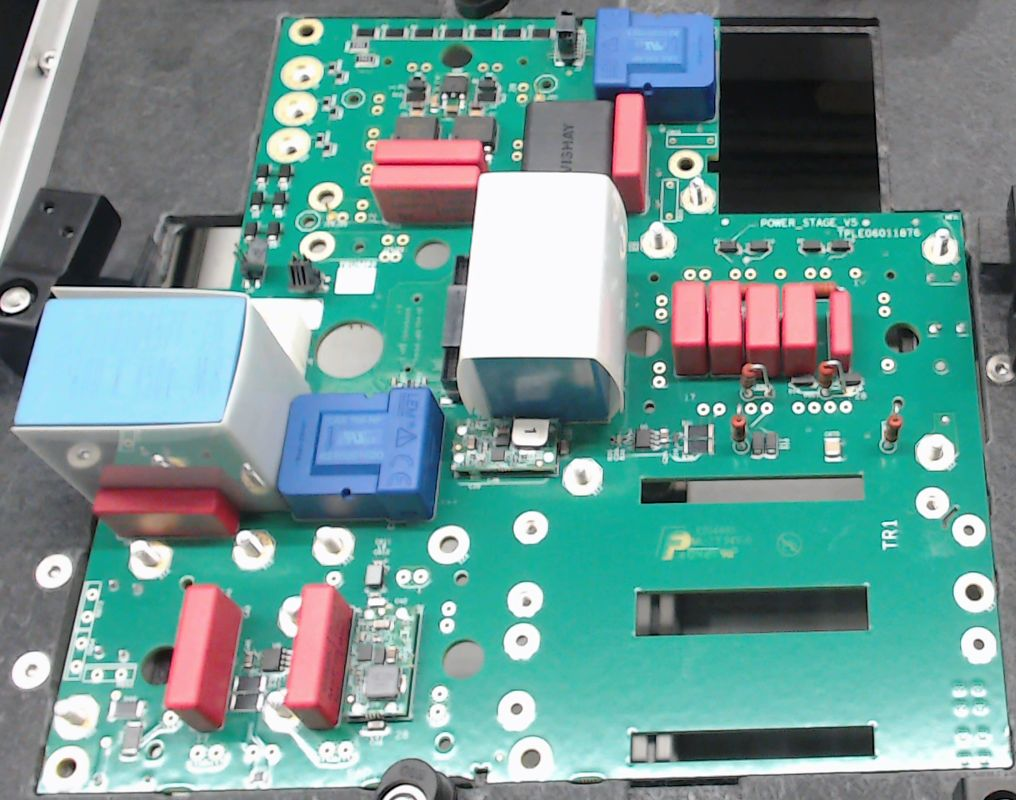comp1: (278, 387, 444, 522), (591, 6, 719, 123)
comp2: (166, 585, 241, 734), (282, 582, 353, 728), (86, 487, 239, 539), (368, 163, 479, 224), (610, 94, 650, 214), (705, 277, 744, 377), (742, 280, 780, 378), (672, 279, 707, 382), (781, 281, 817, 376), (372, 138, 485, 165), (829, 290, 854, 371)
comp3: (522, 98, 616, 175)
comp4: (10, 286, 310, 514), (457, 171, 629, 423)
